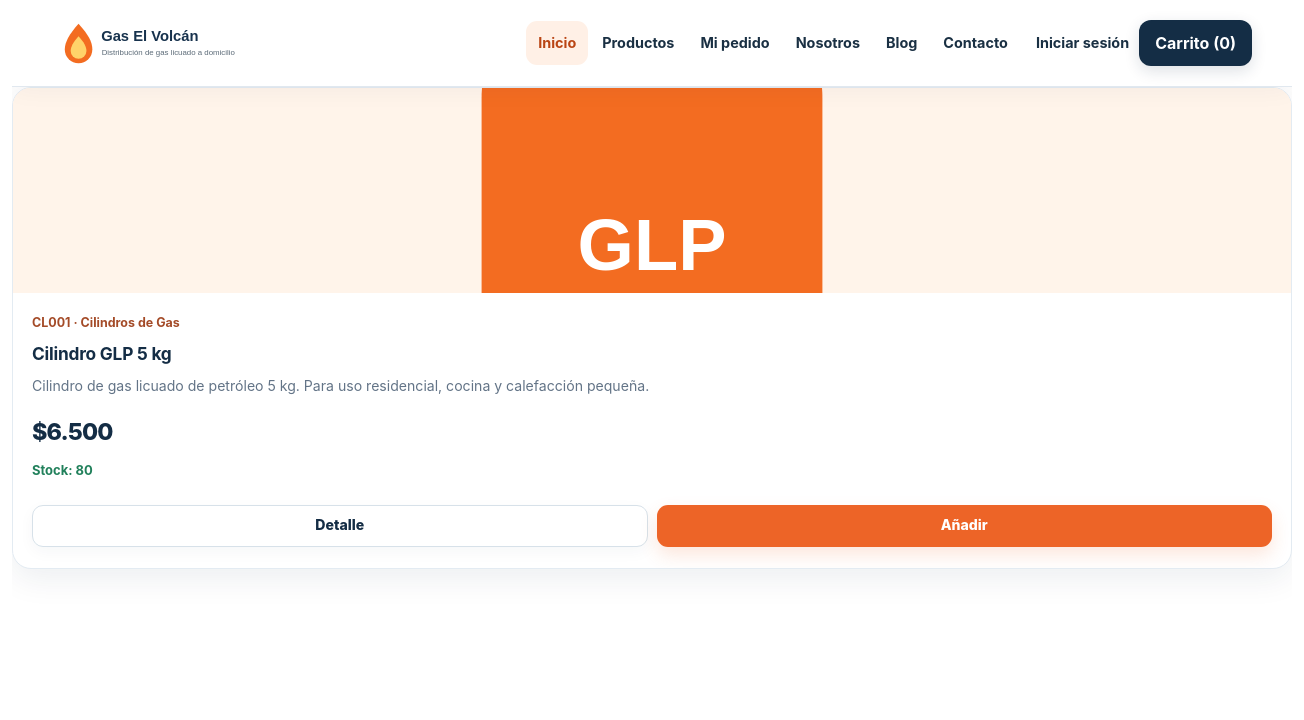
it: Carrito › agrega un producto y actualiza contador, detalle y total
The width and height of the screenshot is (1304, 720).
Click the button "Añadir" at (964, 526), box [656,504,1272,546]
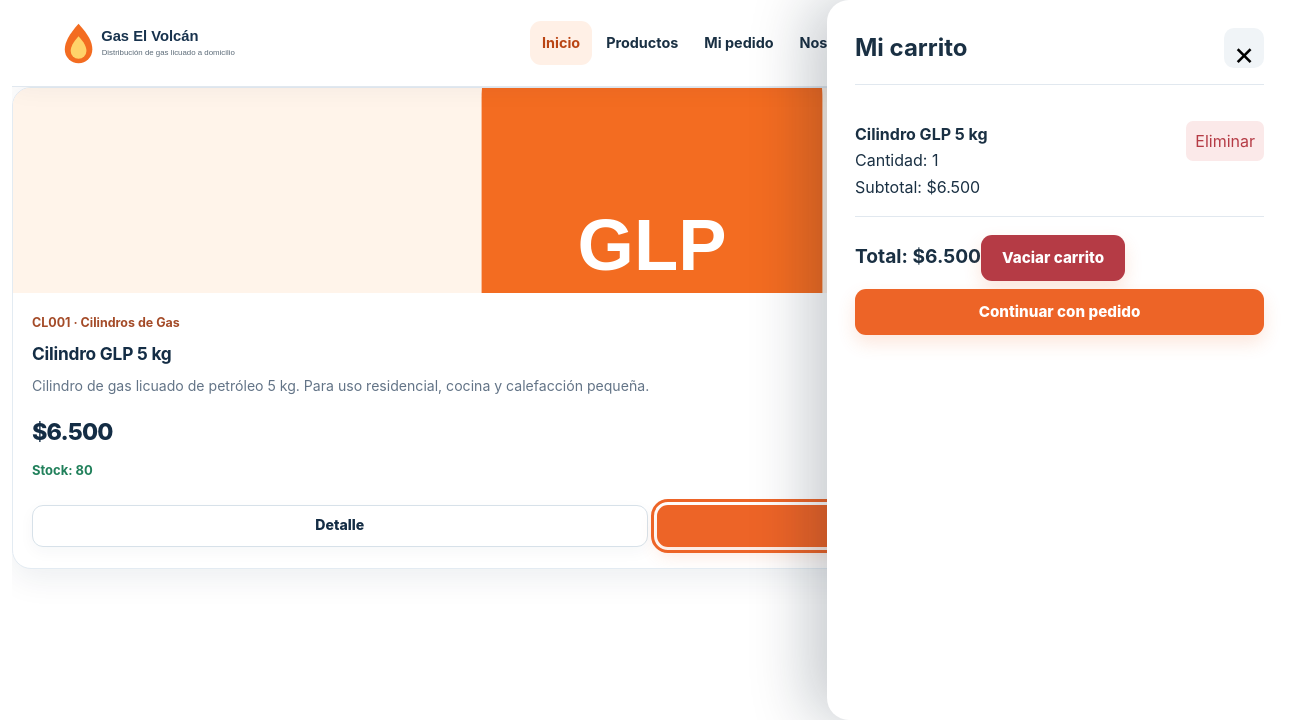
Expected: the text with id "total-carrito" reads "6.500", [925,244,981,268]
Expected: the text "Cantidad: 1" is shown, [855,150,938,170]
Expected: the text "Subtotal: $6.500" is shown, [855,177,980,197]
